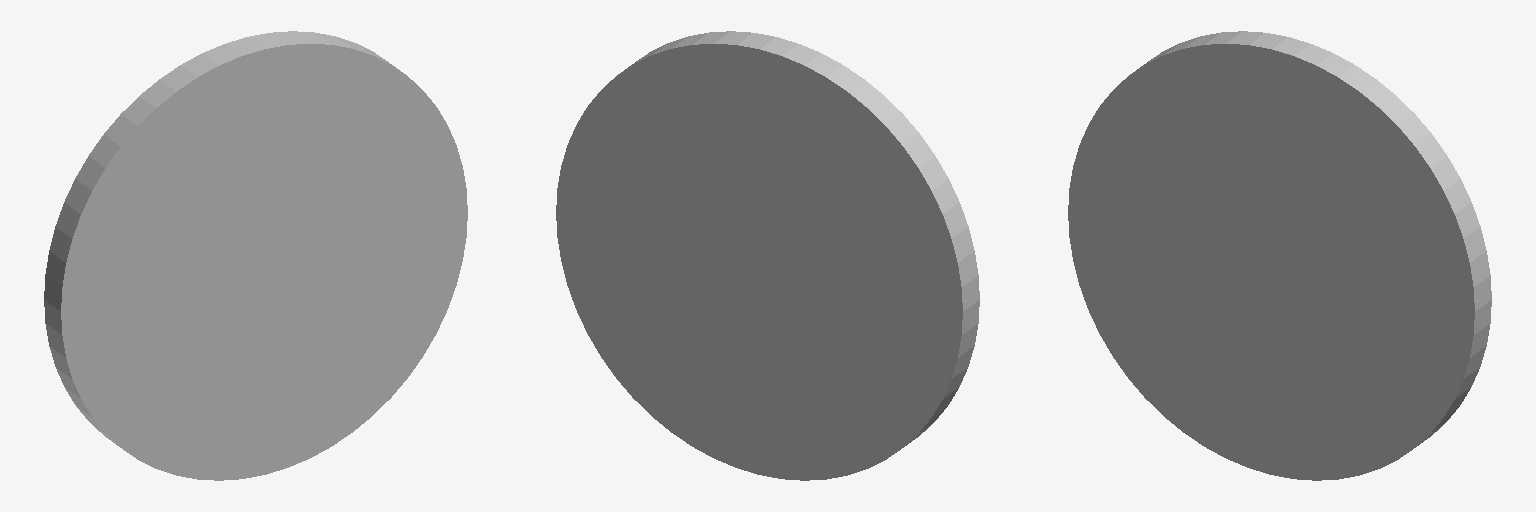
The model's file is Bitcoin_OBJ.objA7A5BD4C-3F94-4168-AC9F-DF1C21A3039B.obj.
3 renders of one model, left to right at view 1: azimuth 30°, elevation 25°; view 2: azimuth 150°, elevation 25°; view 3: azimuth 330°, elevation 25°, orthographic.
Visible parts, largest first — view 1: Bitcoin; view 2: Bitcoin; view 3: Bitcoin.
Part boxes in pixels (x1,y1,x2,y2): Bitcoin: (44,31,467,480); Bitcoin: (556,31,979,480); Bitcoin: (1068,31,1491,480).
Size of the model in its own units: 4.66 by 4.66 by 0.3365.